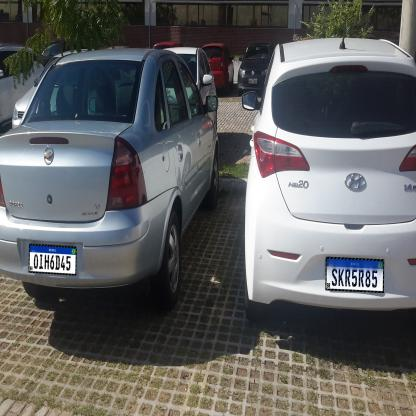PlacaM: (326, 257, 384, 293), (28, 244, 76, 275)
